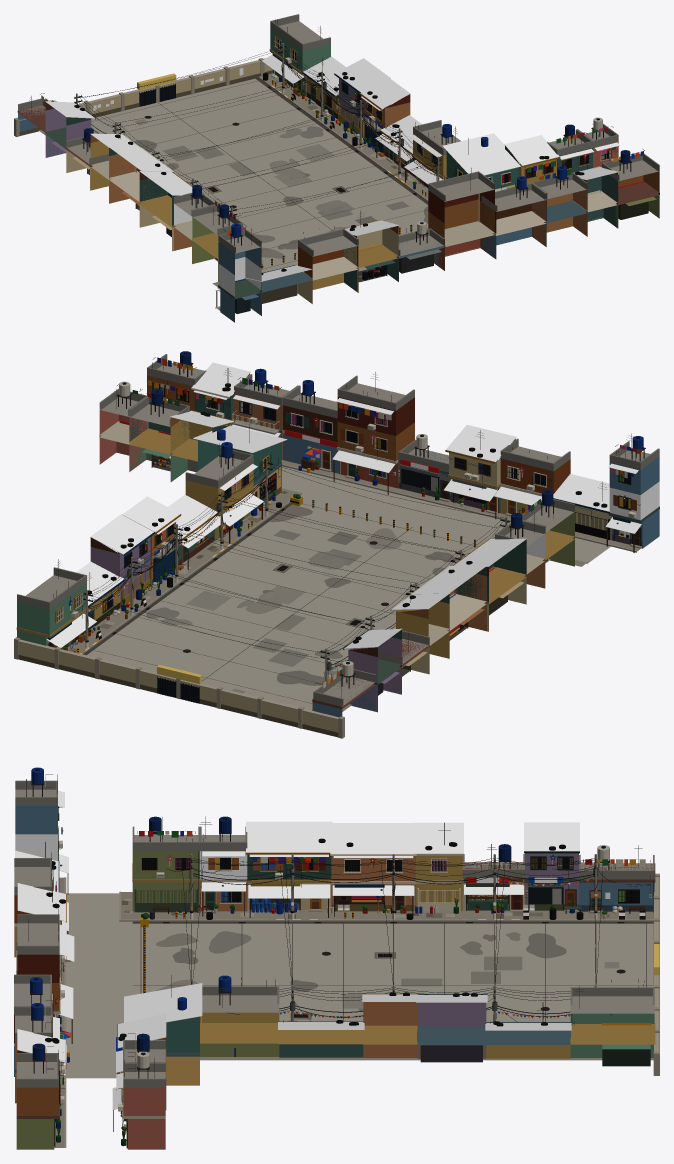
File: kalye_street.glb
The picture shows the model from 3 angles, top to bottom: view 1: azimuth 30°, elevation 25°; view 2: azimuth 150°, elevation 25°; view 3: azimuth 270°, elevation 25°; orthographic projection. The views are drawn at different scales.
Visible parts, largest first — view 1: street_road, street_cross, street_right, street_left, street_right_detail, street_ends, street_cross_detail, street_ends_detail, street_left_detail; view 2: street_road, street_cross, street_right, street_left, street_cross_detail, street_ends, street_right_detail, street_ends_detail, street_left_detail; view 3: street_road, street_left, street_right, street_cross, street_left_detail, street_cross_detail, street_right_detail, street_ends, street_ends_detail.
Boxes of the visible parts, x1,y1,x2,y2 form: street_road: [91, 78, 428, 289]; street_cross: [215, 123, 659, 322]; street_right: [212, 14, 520, 287]; street_left: [17, 93, 243, 281]; street_right_detail: [263, 19, 510, 265]; street_ends: [14, 58, 273, 136]; street_cross_detail: [216, 117, 644, 306]; street_ends_detail: [78, 50, 434, 213]; street_left_detail: [29, 93, 240, 227]; street_road: [83, 466, 610, 710]; street_cross: [99, 354, 659, 552]; street_right: [16, 423, 587, 654]; street_left: [312, 499, 574, 717]; street_cross_detail: [113, 351, 645, 552]; street_ends: [14, 637, 344, 738]; street_right_detail: [47, 442, 475, 653]; street_ends_detail: [91, 464, 504, 703]; street_left_detail: [312, 490, 555, 710]; street_road: [66, 893, 653, 1078]; street_left: [132, 821, 655, 921]; street_right: [116, 891, 655, 1085]; street_cross: [14, 780, 166, 1149]; street_left_detail: [134, 816, 654, 919]; street_cross_detail: [26, 767, 154, 1148]; street_right_detail: [141, 913, 644, 1058]; street_ends: [653, 873, 659, 1075]; street_ends_detail: [182, 863, 602, 1021].
Size of the model in its own units: 76.11 by 15.21 by 76.72.
